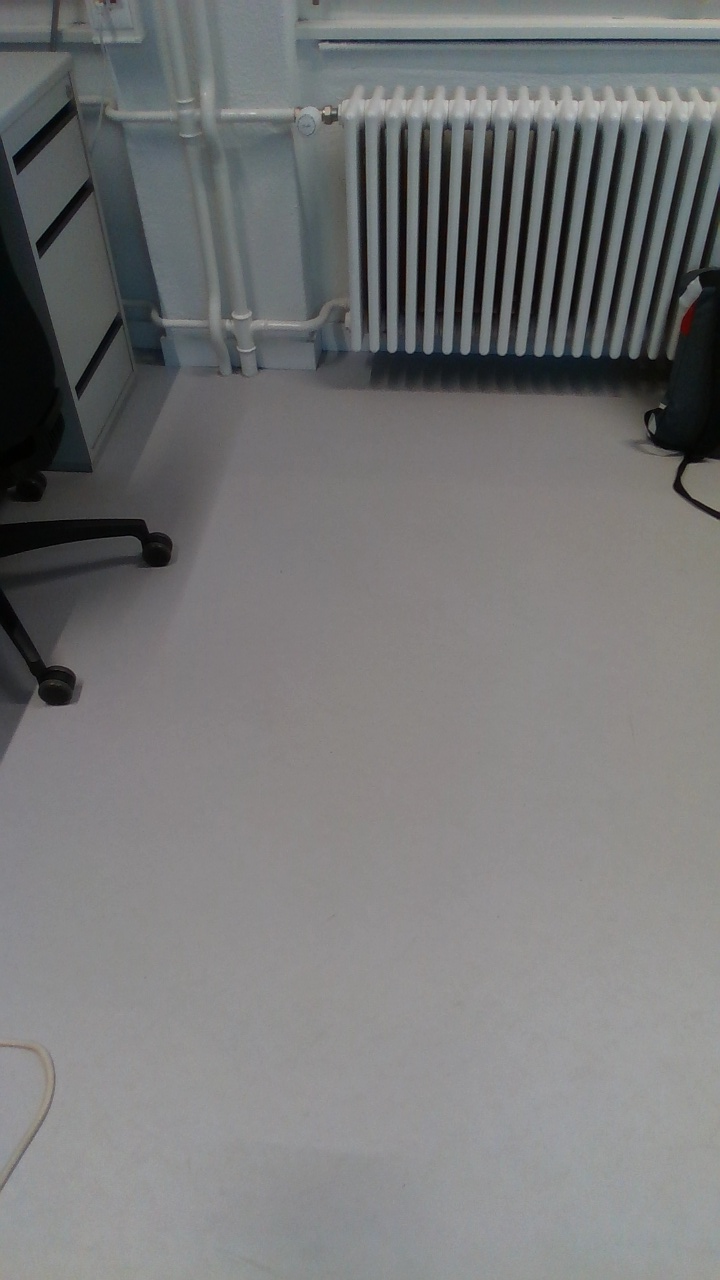Knob_Radiator: (283, 94, 336, 150)
Radiator: (329, 81, 720, 366)
